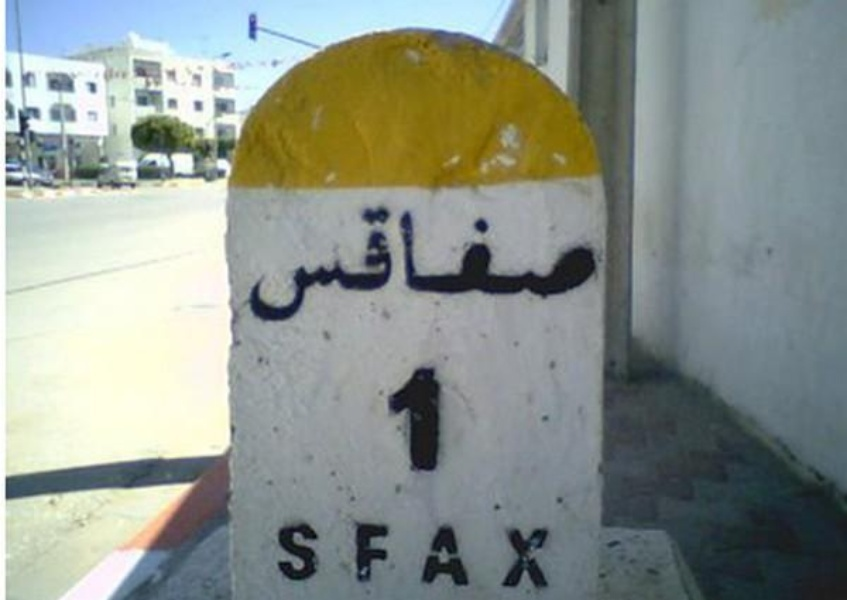text: (257, 204, 272, 325), (273, 204, 288, 325), (289, 204, 304, 325), (305, 204, 320, 325), (321, 204, 336, 325), (337, 204, 352, 325), (353, 204, 368, 325), (369, 204, 384, 325), (385, 204, 400, 325), (401, 204, 416, 325), (417, 204, 432, 325), (433, 204, 448, 325), (449, 204, 464, 325), (465, 204, 480, 325), (481, 204, 496, 325), (497, 204, 512, 325), (513, 204, 528, 325), (529, 204, 544, 325), (545, 204, 560, 325), (561, 204, 576, 325), (577, 204, 592, 325), (385, 362, 400, 476), (401, 362, 416, 476), (417, 362, 432, 476), (433, 362, 447, 476), (289, 517, 304, 593), (305, 517, 320, 593), (321, 517, 336, 593), (337, 517, 352, 593), (353, 517, 368, 593), (369, 517, 384, 593), (385, 517, 400, 593), (401, 517, 416, 593), (417, 517, 432, 593), (433, 517, 448, 593), (449, 517, 464, 593), (465, 517, 480, 593), (481, 517, 496, 593), (497, 517, 512, 593), (513, 517, 528, 593), (529, 517, 544, 593), (274, 517, 288, 593), (250, 204, 256, 325), (593, 204, 599, 325), (545, 517, 551, 593)
